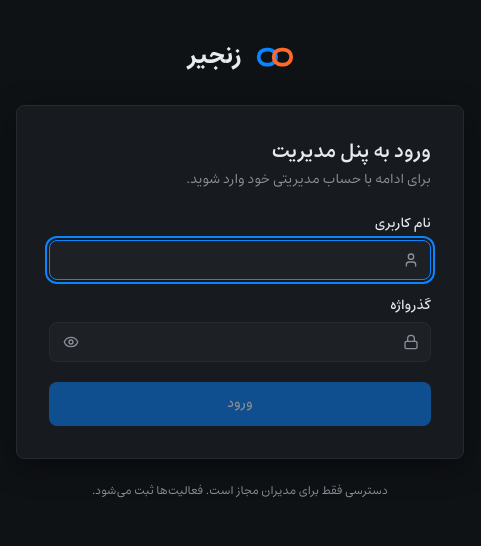
Test: Login › shows the Persian message for wrong credentials
In the field labelled "نام کاربری": x=240, y=260 [49, 240, 431, 280], type "tester"
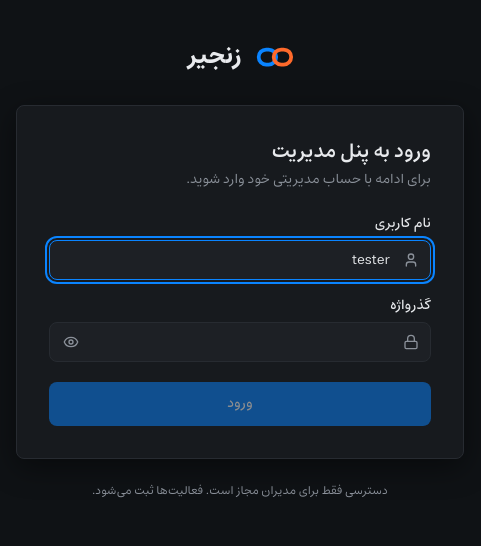
In the password field labelled "گذرواژه": x=240, y=342 [49, 322, 431, 362], type "wrong-password"
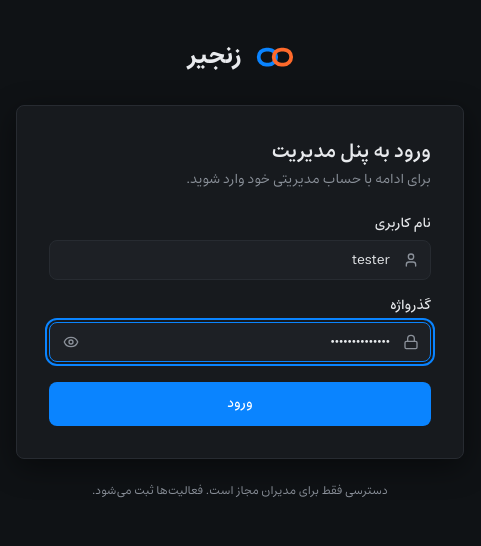
Click the button "ورود": x=240, y=404 [49, 382, 431, 426]
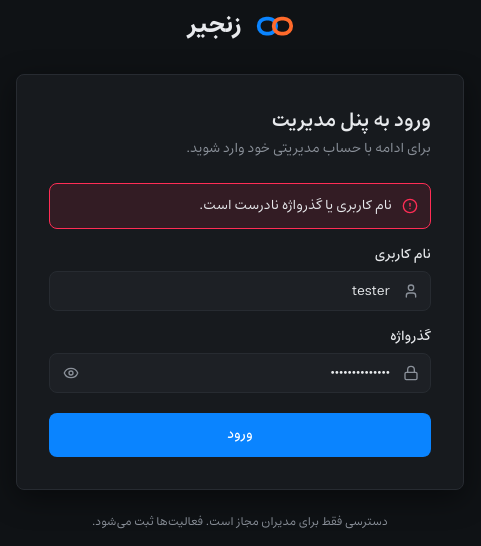
Expected: the message reads "نام کاربری یا گذرواژه نادرست است.", [199, 195, 392, 216]
